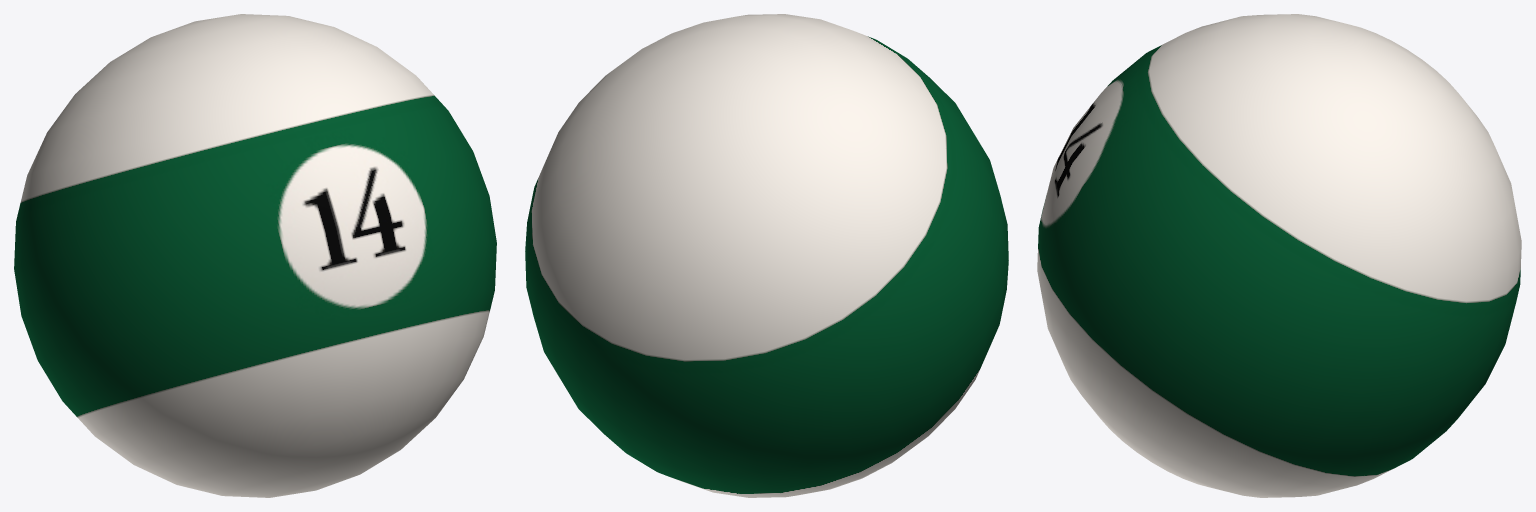
The model's file is ball14.obj.
3 renders of one model, left to right at view 1: azimuth 30°, elevation 25°; view 2: azimuth 150°, elevation 25°; view 3: azimuth 270°, elevation 25°, orthographic.
Parts seen in each view (by area): view 1: Ball14_Mesh.009; view 2: Ball14_Mesh.009; view 3: Ball14_Mesh.009.
Boxes of the visible parts, x1,y1,x2,y2 form: Ball14_Mesh.009: (14,14,496,497); Ball14_Mesh.009: (525,14,1008,497); Ball14_Mesh.009: (1037,14,1521,497).
Size of the model in its own units: 0.9617 by 0.9597 by 0.9597.
1 material, 1 textured.
